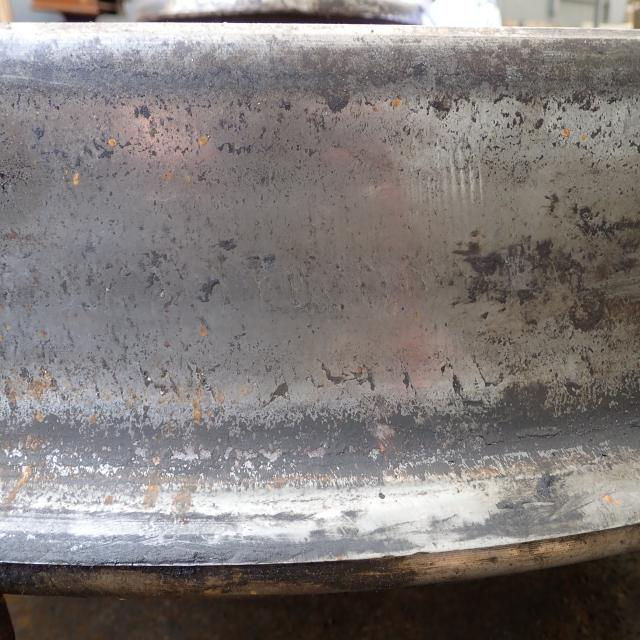Contact_Fatigue_Cracks: (251, 255, 269, 310), (214, 266, 234, 309), (373, 270, 391, 309), (477, 261, 491, 299), (417, 275, 432, 308), (505, 257, 515, 304), (320, 277, 333, 313), (289, 273, 300, 311), (455, 260, 466, 298), (400, 269, 414, 296), (436, 266, 454, 286), (306, 274, 313, 310), (357, 279, 366, 304), (341, 270, 352, 287)
